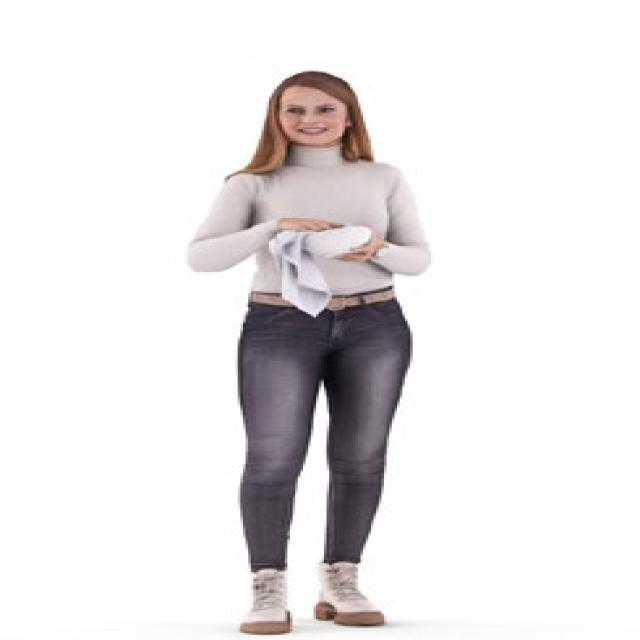standing: (184, 68, 434, 640)
